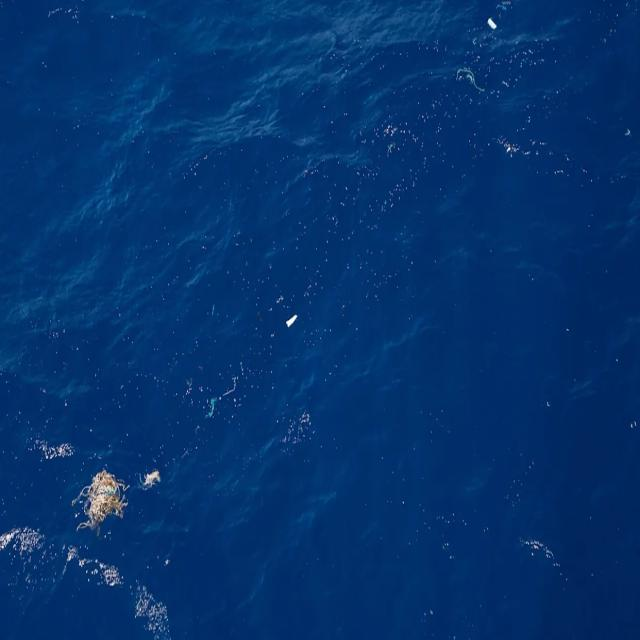plastic watse: (73, 470, 127, 533)
